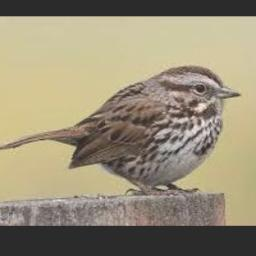Sparrow: (0, 65, 241, 196)
